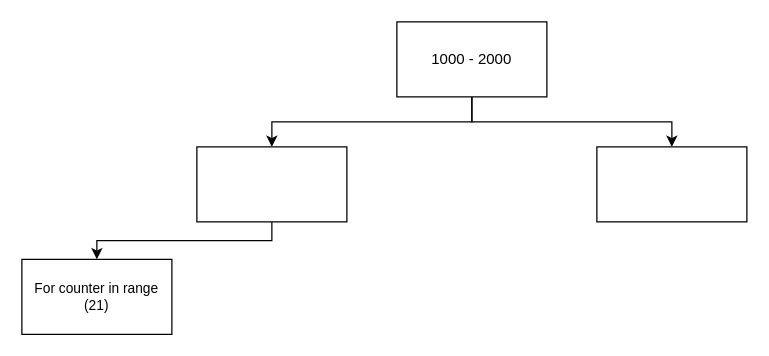
The diagram is 769 pixels wide and 356 high, and some of its shapes have lost their labels. Each missing label, with the centre of its shape:
"Output" goes at point (671, 184).
"Process" goes at point (271, 184).
